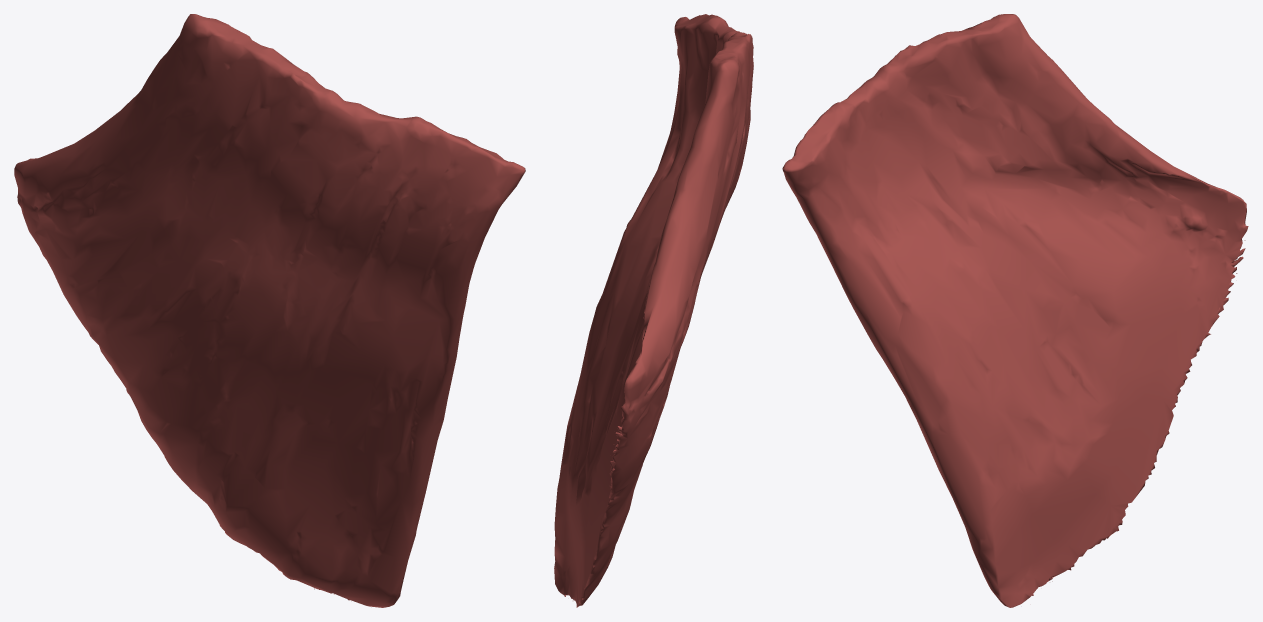
File: FMA13352.glb
3 views of the same model, side by side, from view 1: azimuth 30°, elevation 25°; view 2: azimuth 150°, elevation 25°; view 3: azimuth 270°, elevation 25° (orthographic). The views are drawn at different scales.
Parts seen in each view (by area): view 1: FMA13352; view 2: FMA13352; view 3: FMA13352.
Part boxes in pixels (x1,y1,x2,y2): FMA13352: [14, 14, 525, 607]; FMA13352: [554, 14, 753, 607]; FMA13352: [782, 14, 1248, 607].
Bounding box in the file's own units: 0.0119 × 0.0299 × 0.0243.
